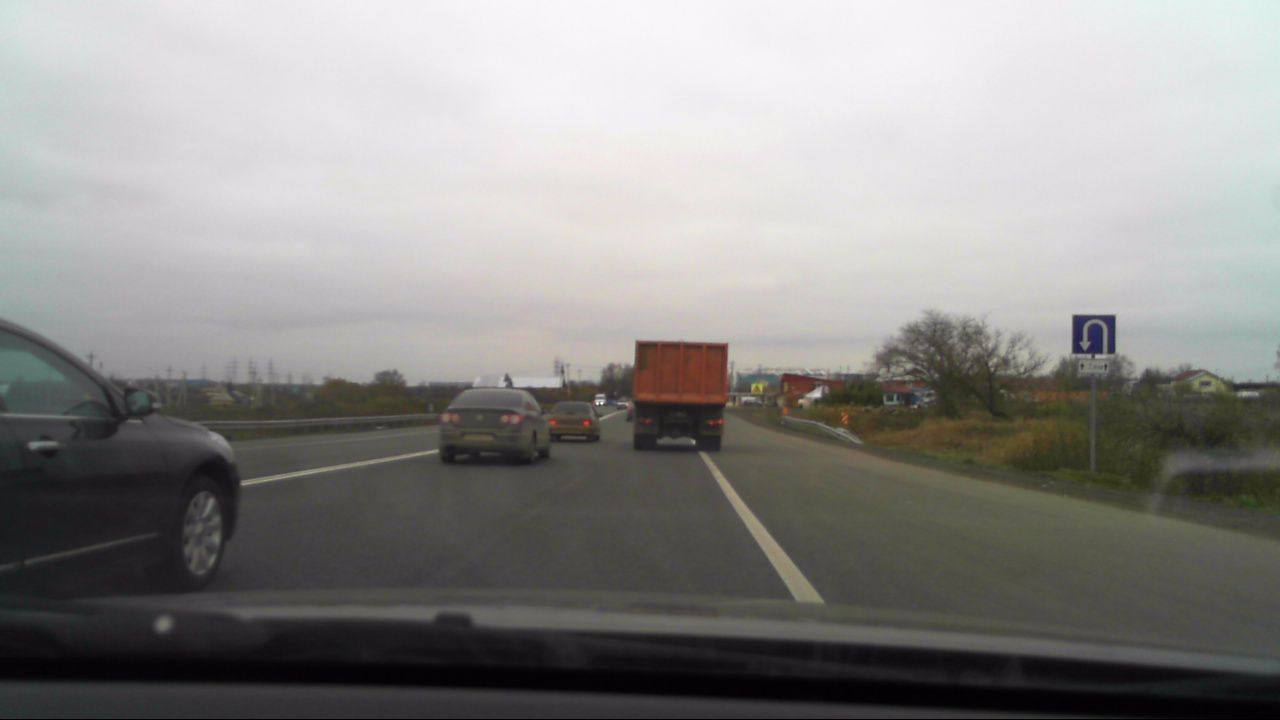U-turn: (1073, 315, 1116, 354)
